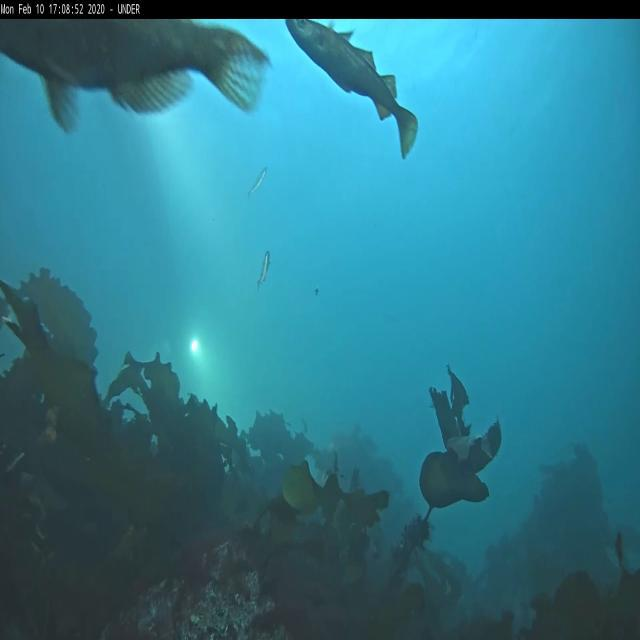fish: (1, 21, 270, 138), (284, 20, 418, 162), (247, 167, 268, 199), (256, 249, 270, 290)
